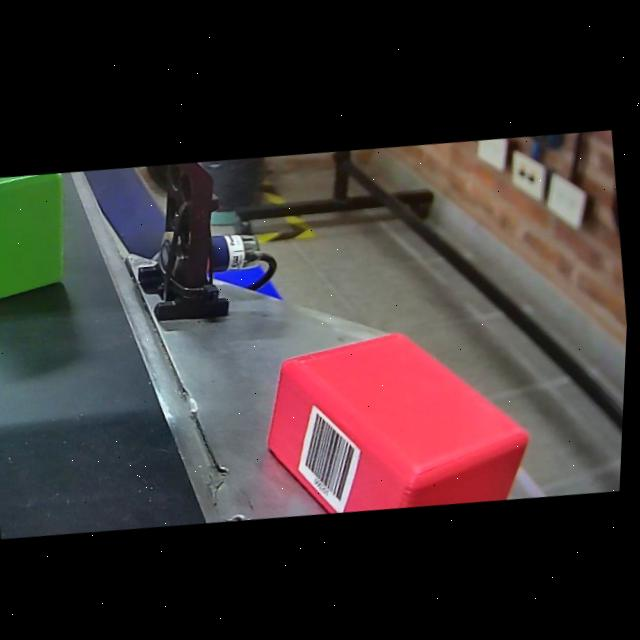greenBox: (0, 169, 85, 310)
redBox: (251, 302, 550, 525)
